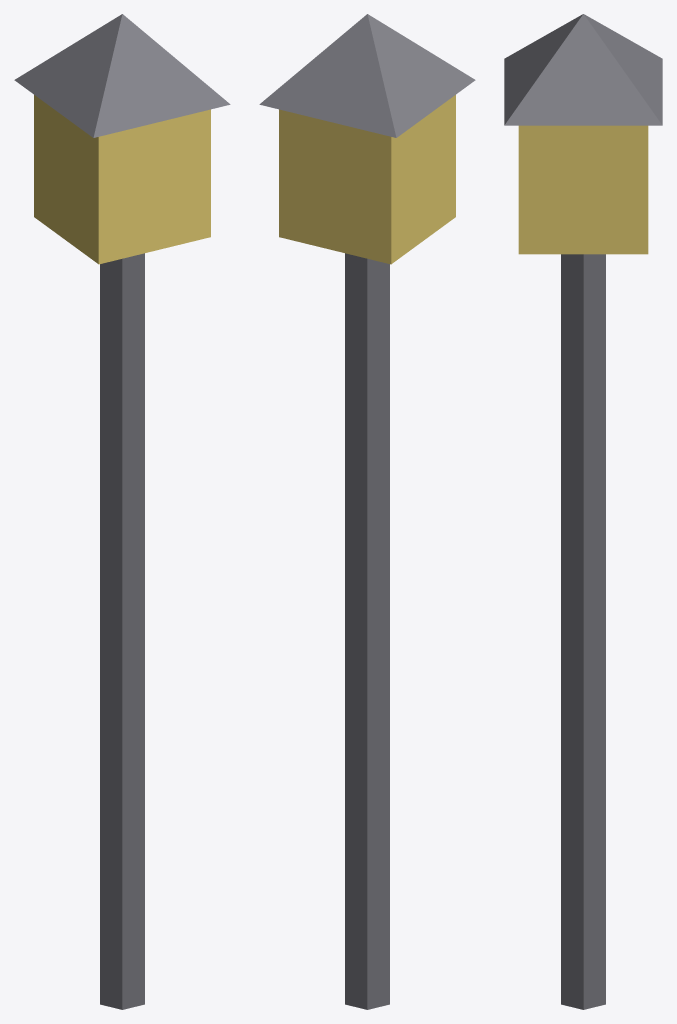
File: farol.glb
3 renders of one model, left to right at view 1: azimuth 30°, elevation 25°; view 2: azimuth 150°, elevation 25°; view 3: azimuth 270°, elevation 25°, orthographic.
Parts seen in each view (by area): view 1: farol; view 2: farol; view 3: farol.
Part boxes in pixels (x1=…): farol: x1=14, y1=14, x2=230, y2=1009; farol: x1=259, y1=14, x2=475, y2=1009; farol: x1=504, y1=14, x2=662, y2=1009.
Bounding box in the file's own units: 0.3677 × 2.52 × 0.3677.
